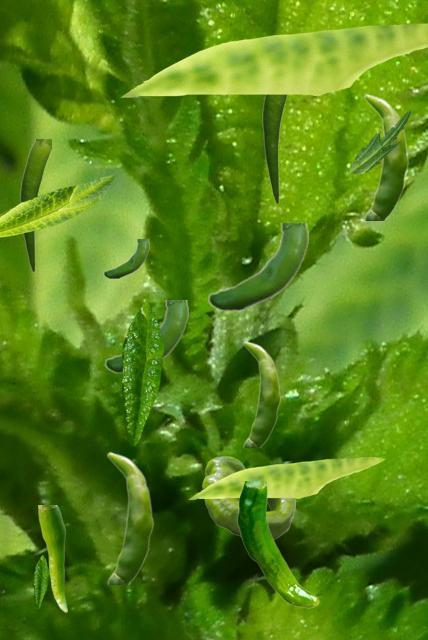green_chili: (237, 481, 318, 607), (207, 223, 307, 311), (202, 456, 294, 539), (106, 451, 153, 583), (104, 300, 187, 373), (363, 93, 408, 219), (242, 340, 280, 446), (20, 139, 50, 271), (38, 505, 66, 611), (262, 95, 288, 203), (103, 239, 148, 278)
